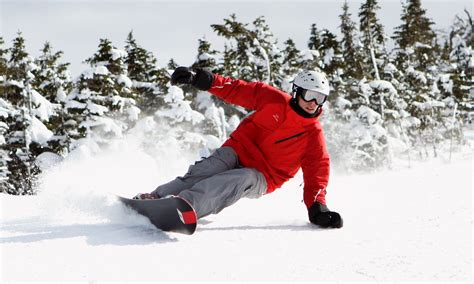snowboarder: (93, 49, 349, 246)
